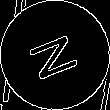N_E: (24, 27, 86, 83)
